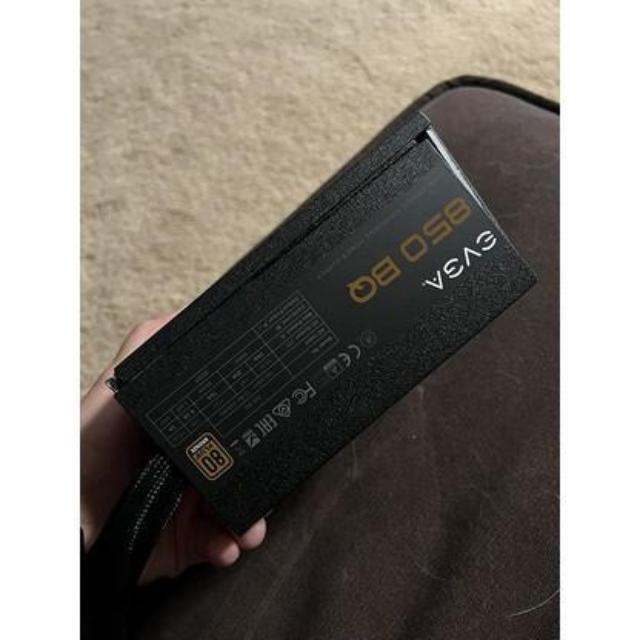PSU: (110, 92, 535, 570)
